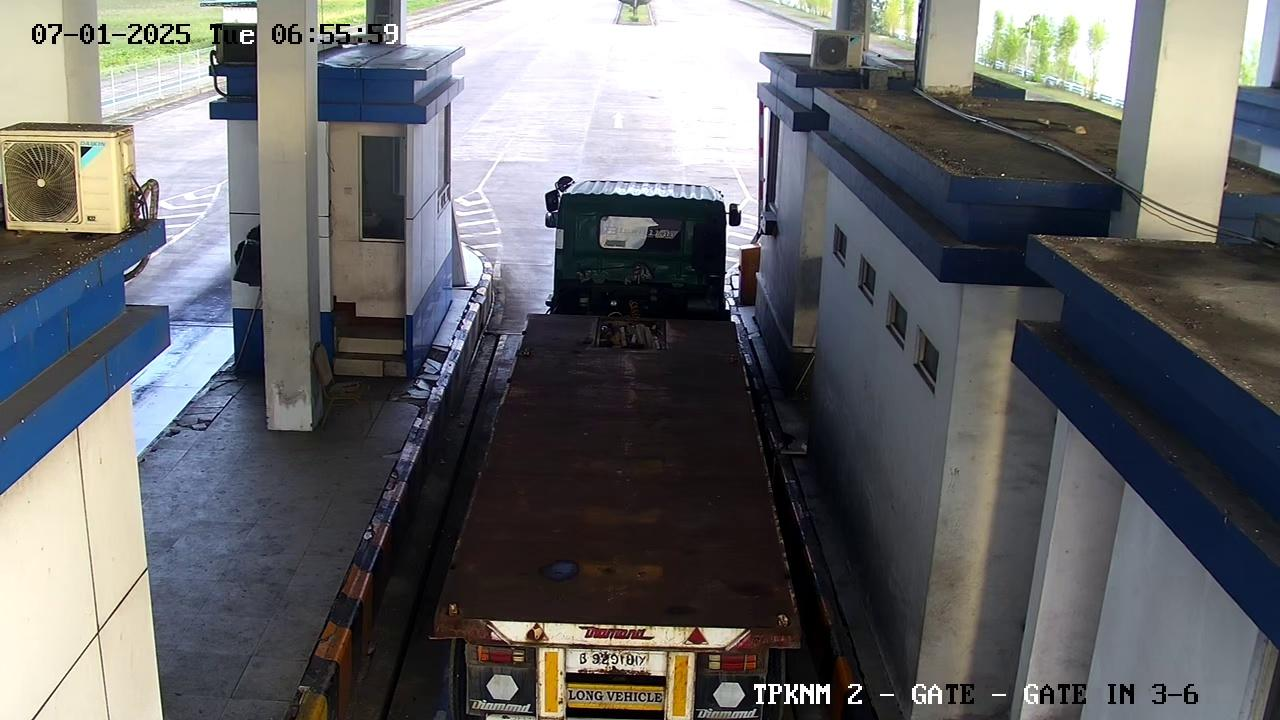plate_number: (576, 641, 651, 679)
